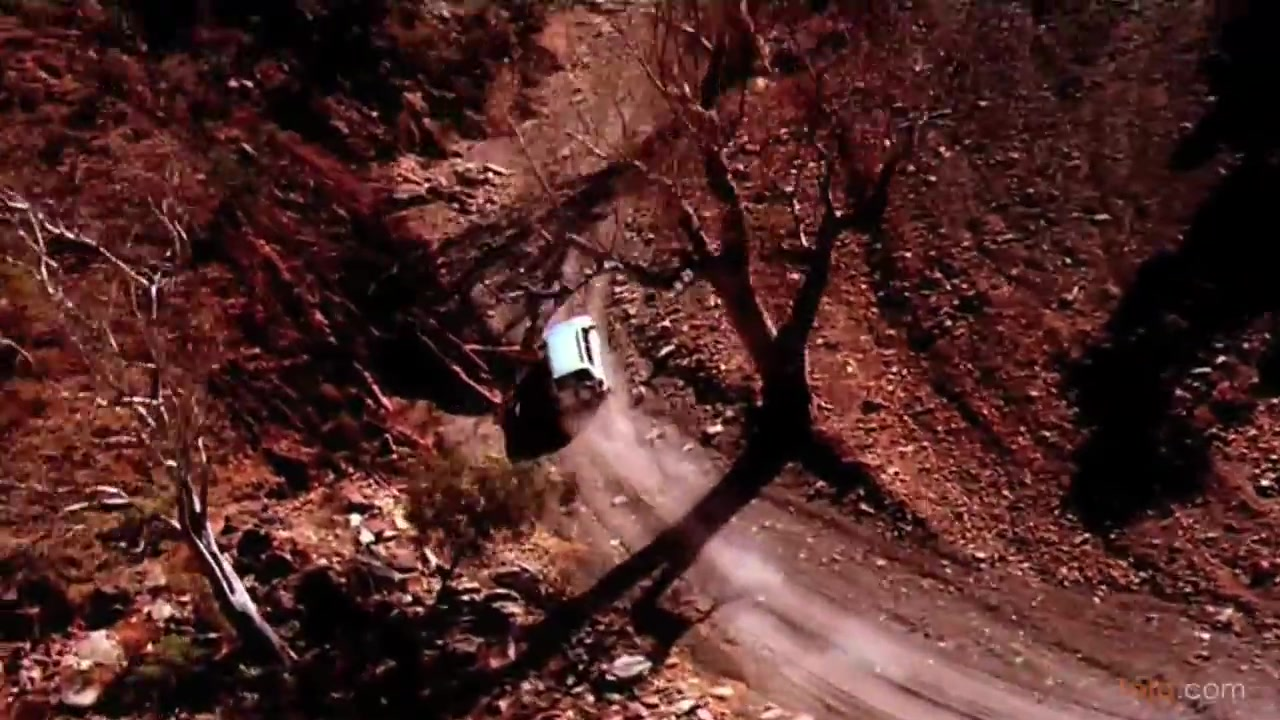car: (540, 312, 610, 411)
